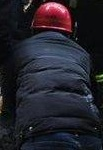gloves: (93, 0, 103, 11), (94, 0, 103, 8)
hard-hat: (30, 1, 73, 33)
ppe-suit: (0, 0, 52, 129)
